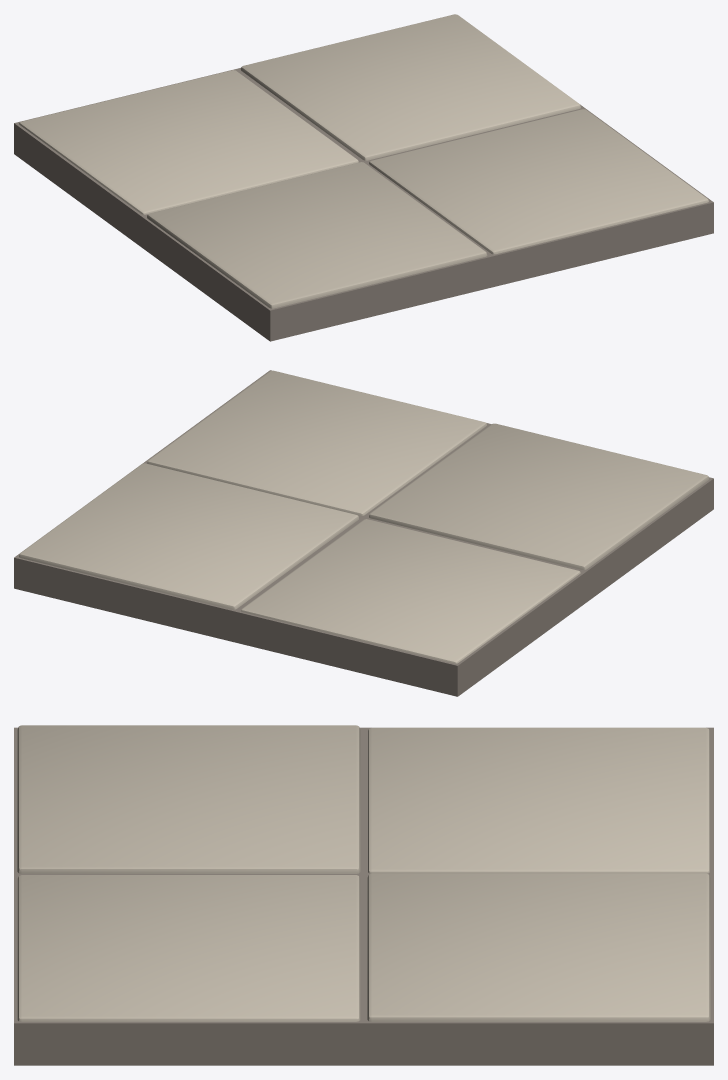
File: dk_floor.gltf
3 renders of one model, top to bottom at view 1: azimuth 30°, elevation 25°; view 2: azimuth 150°, elevation 25°; view 3: azimuth 270°, elevation 25°, orthographic. The views are drawn at different scales.
Parts seen in each view (by area): view 1: Body; view 2: Body; view 3: Body.
Boxes of the visible parts, left/top/right/bottom form: Body: left=14, top=14, right=713, bottom=341; Body: left=14, top=370, right=713, bottom=696; Body: left=14, top=725, right=713, bottom=1065.
Bounding box in the file's own units: 3 × 0.2269 × 3.
